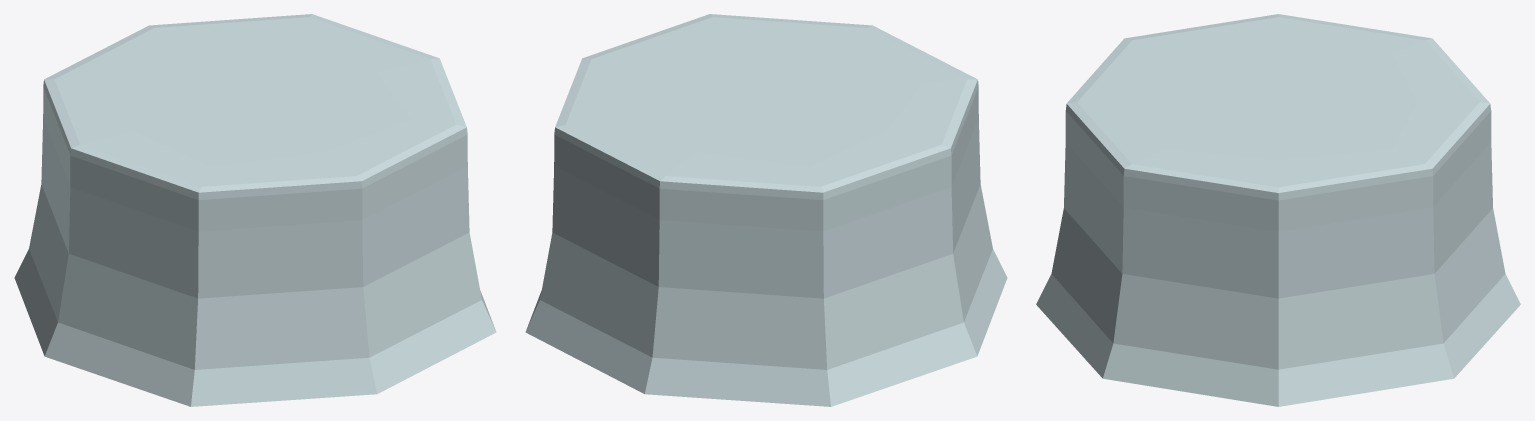
File: SnowBlock.fbx
3 renders of one model, left to right at view 1: azimuth 30°, elevation 25°; view 2: azimuth 150°, elevation 25°; view 3: azimuth 270°, elevation 25°, orthographic.
Visible parts, largest first — view 1: SnowBlock; view 2: SnowBlock; view 3: SnowBlock.
Boxes of the visible parts, <box> form: SnowBlock: <box>14,14,496,406</box>; SnowBlock: <box>525,14,1007,406</box>; SnowBlock: <box>1036,14,1520,406</box>.
Size of what is drawn, in the model's own units: 10.44 by 10.44 by 4.99.
